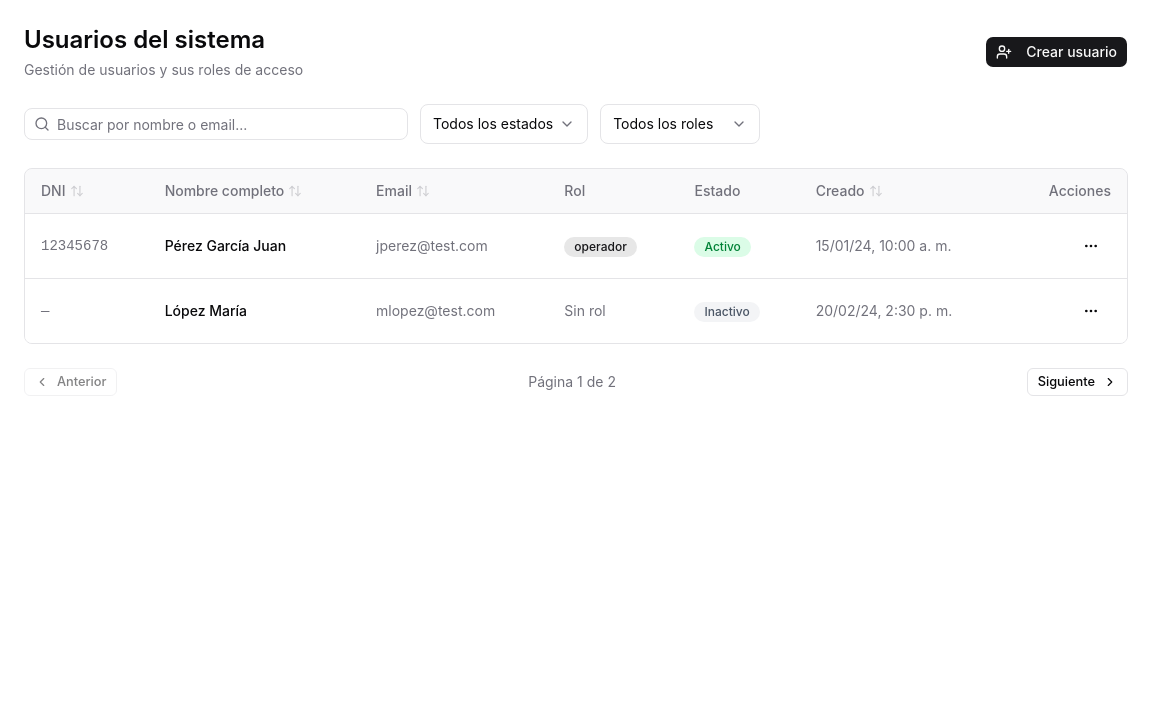
Test: PaginaUsuarios › click en eliminar abre modal de confirmación
Click the button named "acciones para".
click(1091, 246)  # box [1071,226,1111,266]
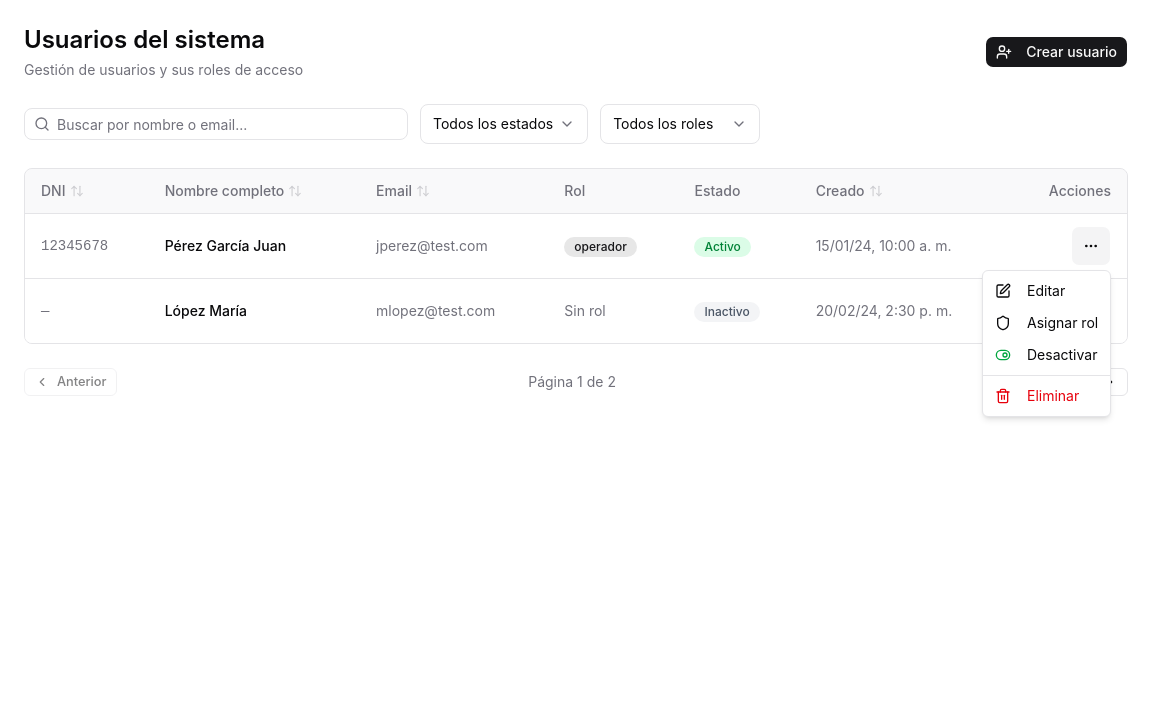
Now the menu item "Eliminar" is shown
Click the menu item "Eliminar".
click(1037, 396)  # box [995,387,1079,404]
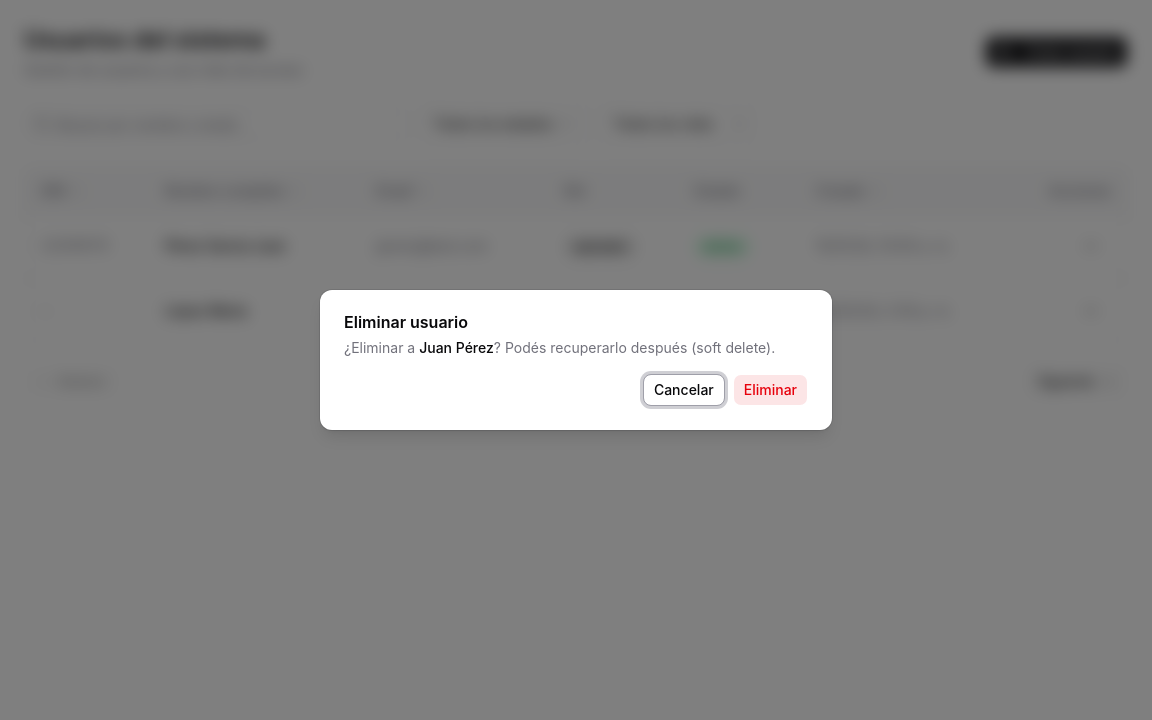
Now the heading "Eliminar usuario" is shown, box [344,312,468,332]
